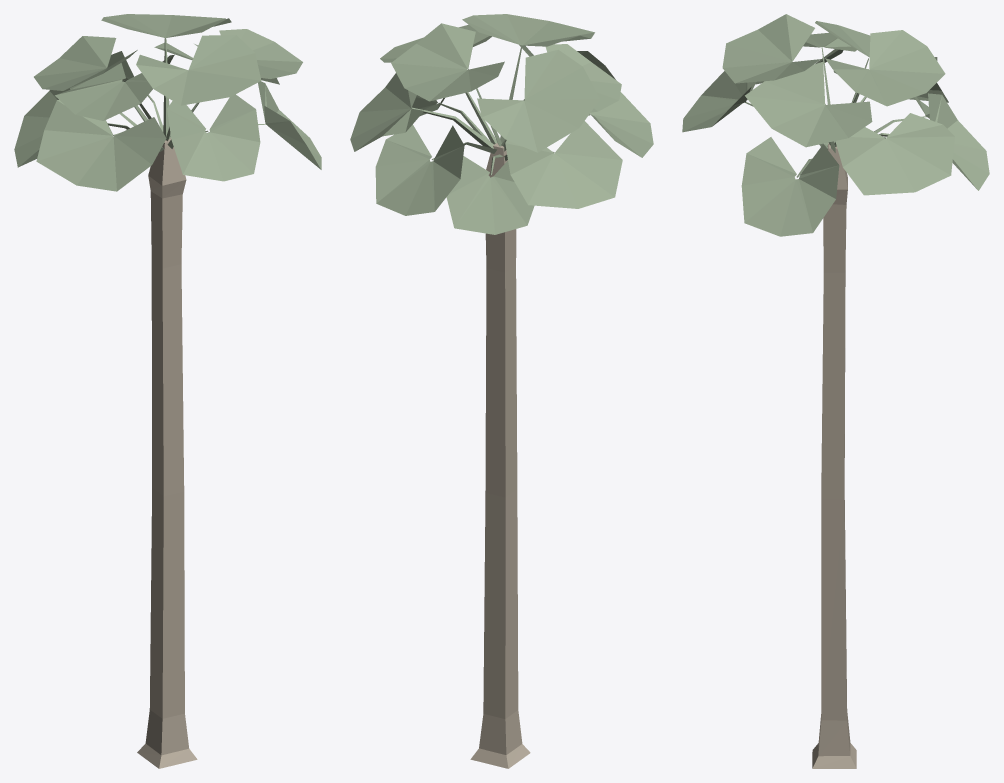
The model's file is WashingtoniaFilifera.glb.
3 renders of one model, left to right at view 1: azimuth 30°, elevation 25°; view 2: azimuth 150°, elevation 25°; view 3: azimuth 270°, elevation 25°, orthographic.
Parts seen in each view (by area): view 1: Crown, Trunk; view 2: Crown, Trunk; view 3: Crown, Trunk.
Boxes of the visible parts, left/top/right/bottom form: Crown: left=14, top=14, right=321, bottom=191; Trunk: left=137, top=137, right=197, bottom=768; Crown: left=350, top=14, right=653, bottom=234; Trunk: left=470, top=143, right=530, bottom=768; Crown: left=682, top=14, right=989, bottom=236; Trunk: left=812, top=143, right=856, bottom=768.
Size of the model in its own units: 7.01 by 18.04 by 6.98.
